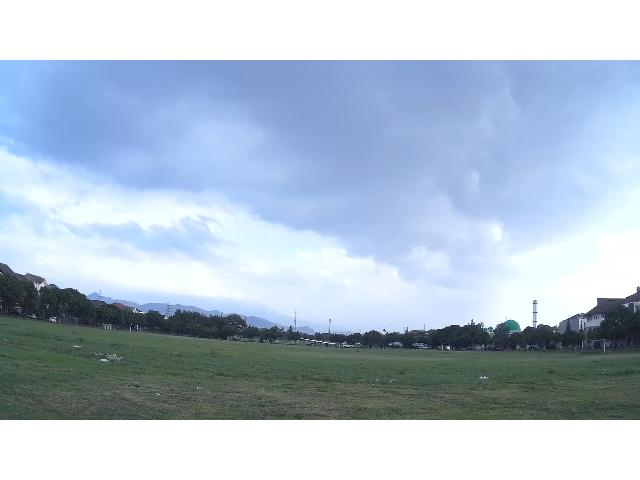Anti-Drone: (300, 338, 336, 344)
